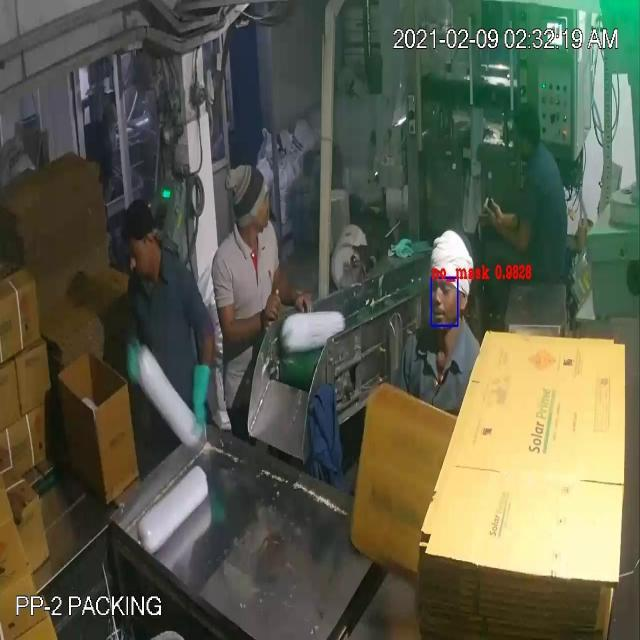Gloves: (25, 63, 504, 398)
